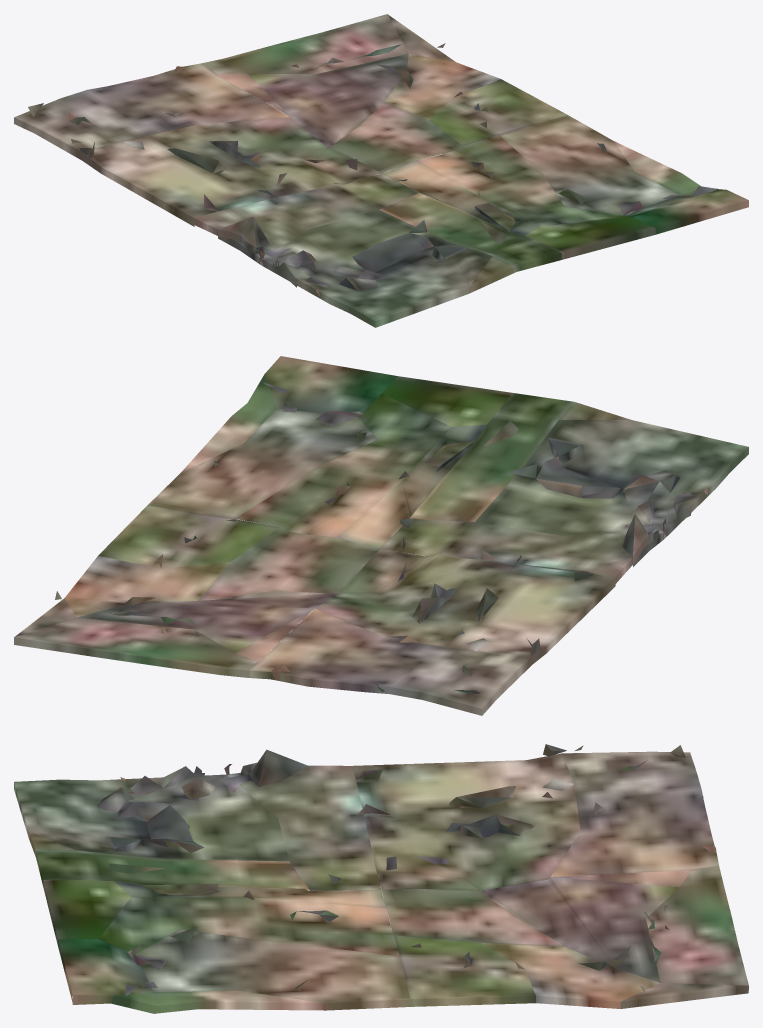
The picture shows the model from 3 angles, top to bottom: view 1: azimuth 30°, elevation 25°; view 2: azimuth 150°, elevation 25°; view 3: azimuth 270°, elevation 25°; orthographic projection. The views are drawn at different scales.
Visible parts, largest first — view 1: Mesh_0; view 2: Mesh_0; view 3: Mesh_0.
Boxes of the visible parts, x1=… form: Mesh_0: x1=14, y1=14, x2=748, y2=327; Mesh_0: x1=14, y1=356, x2=748, y2=715; Mesh_0: x1=14, y1=744, x2=748, y2=1013.
Bounding box in the file's own units: 532 × 61.78 × 659.
1 material, 1 textured.
